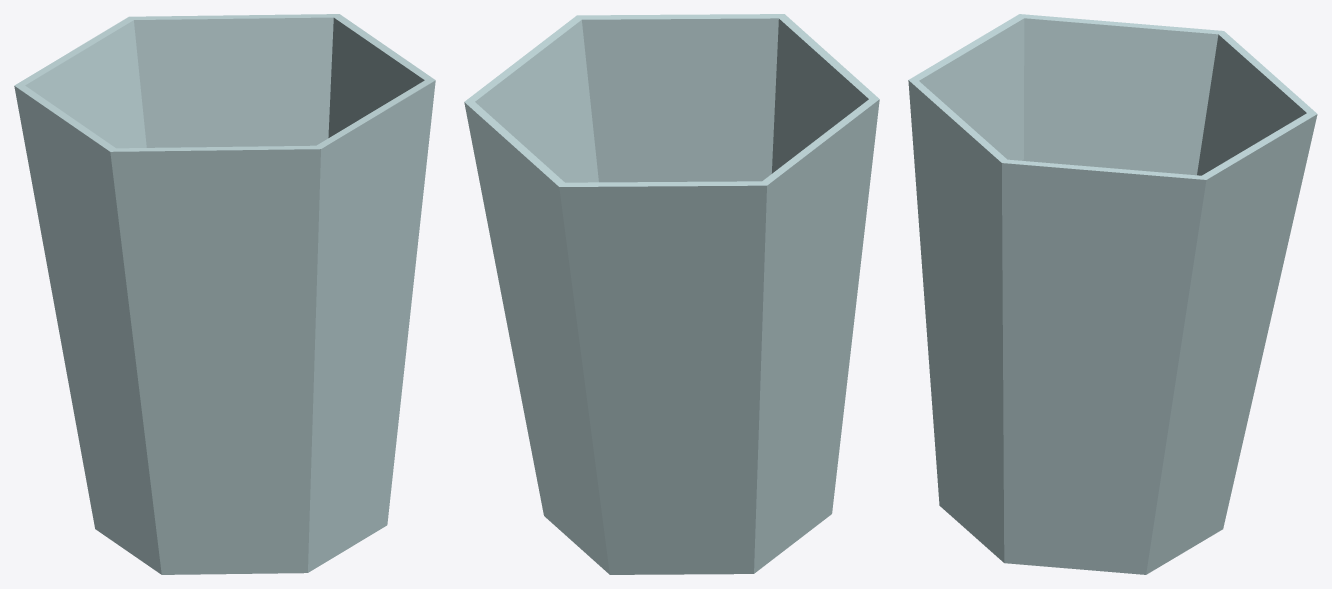
Rendered from Pot.fbx.
3 views of the same model, side by side, from view 1: azimuth 30°, elevation 25°; view 2: azimuth 150°, elevation 25°; view 3: azimuth 270°, elevation 25° (orthographic). The views are drawn at different scales.
Parts seen in each view (by area): view 1: Verre.002; view 2: Verre.002; view 3: Verre.002.
Boxes of the visible parts, left/top/right/bottom form: Verre.002: left=14, top=14, right=435, bottom=574; Verre.002: left=464, top=14, right=879, bottom=574; Verre.002: left=908, top=14, right=1317, bottom=574.
Size of the model in its own units: 15.37 by 20.51 by 17.21.
